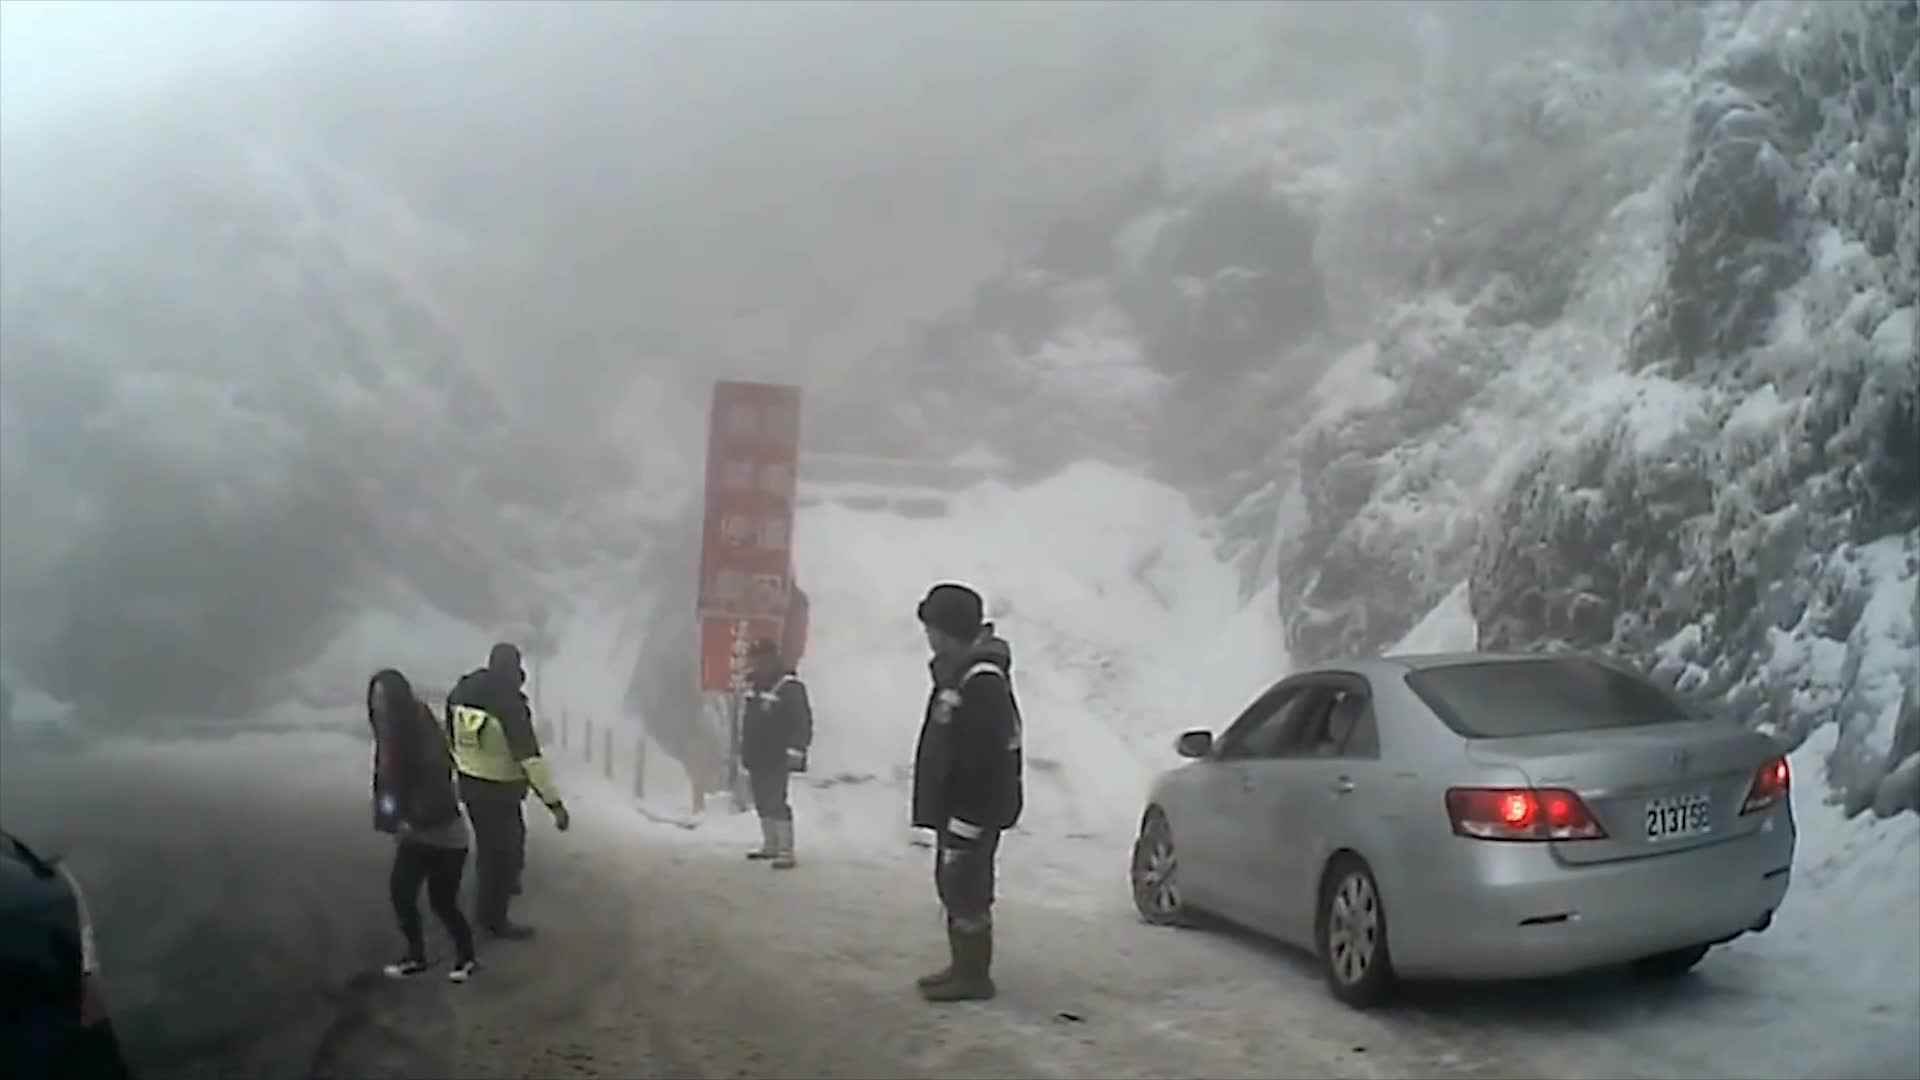pedestrian: (902, 585, 1035, 1014), (442, 645, 569, 939), (364, 671, 474, 977), (742, 637, 825, 878), (749, 569, 814, 746)
vehicle: (1128, 653, 1797, 1010), (0, 822, 127, 1078)
